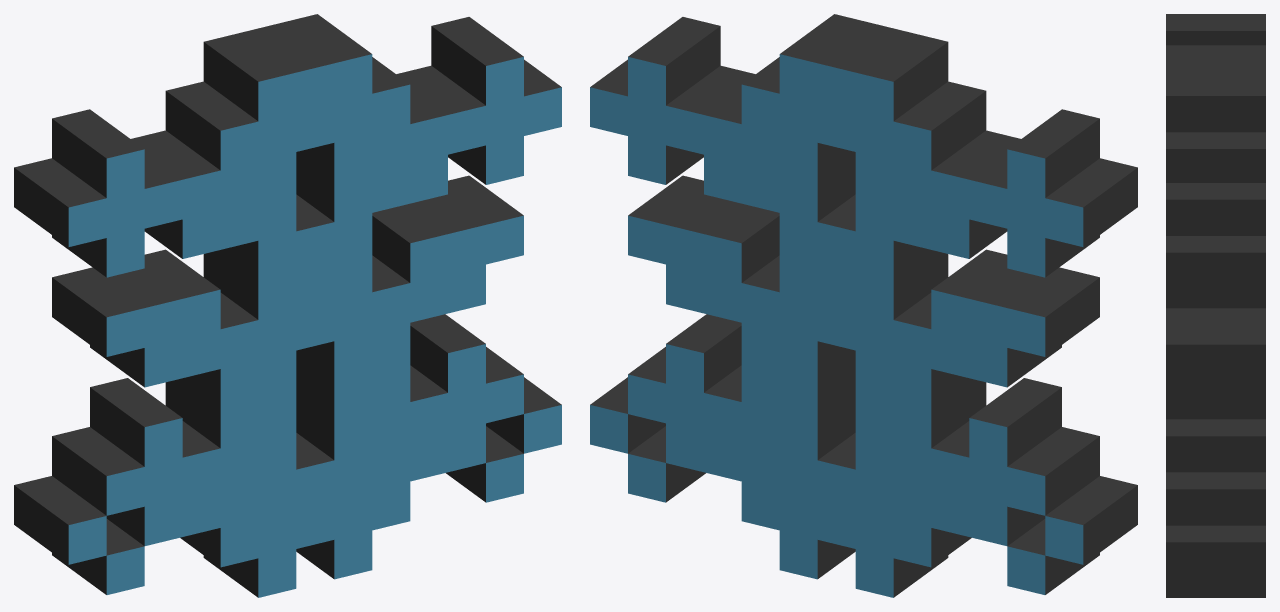
File: Napoleon.glb
3 views of the same model, side by side, from view 1: azimuth 30°, elevation 25°; view 2: azimuth 150°, elevation 25°; view 3: azimuth 270°, elevation 25° (orthographic). The views are drawn at different scales.
Parts seen in each view (by area): view 1: Napoleon; view 2: Napoleon; view 3: Napoleon.
Part boxes in pixels (left/top/right/bottom): Napoleon: left=14, top=14, right=561, bottom=597; Napoleon: left=590, top=14, right=1137, bottom=597; Napoleon: left=1166, top=14, right=1265, bottom=597.
Bounding box in the file's own units: 3 × 3 × 0.5767.
